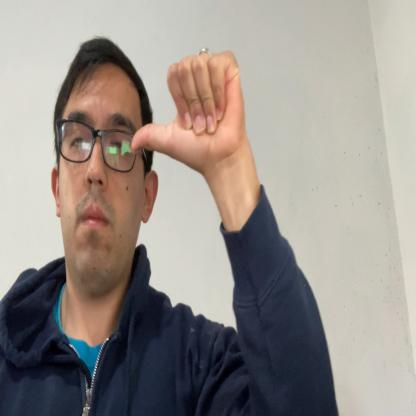A: (131, 49, 246, 165)
